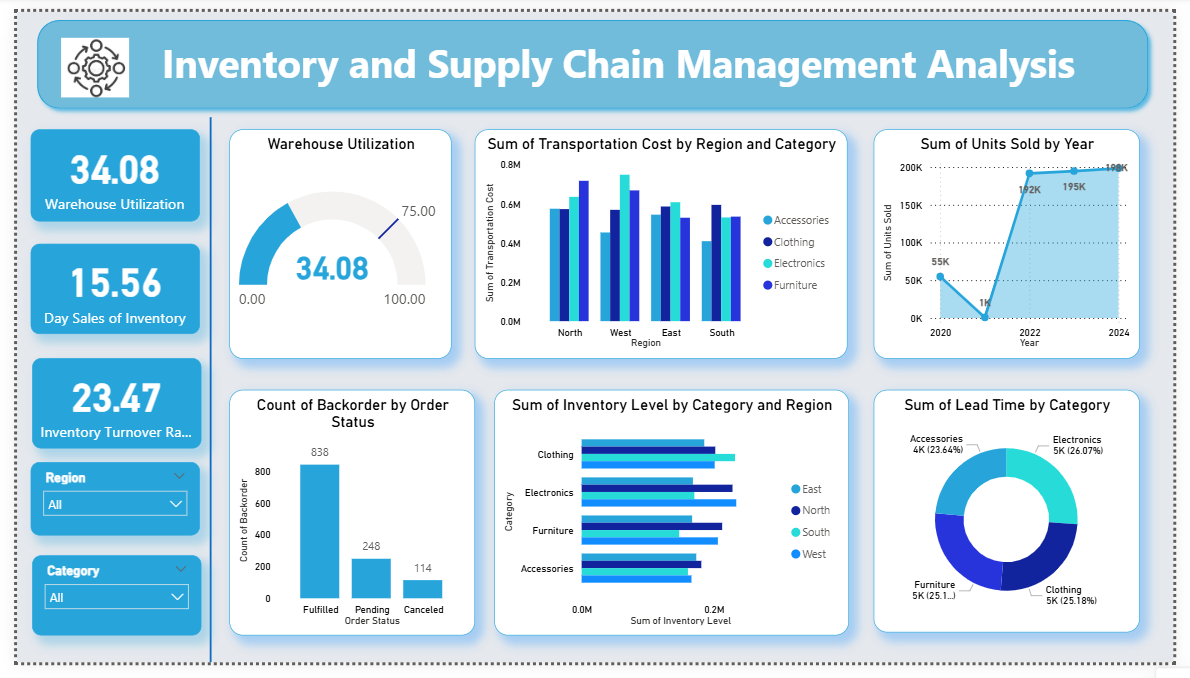

This screenshot's page, from the dashboard's own definition file:
{"tool":"powerbi","page":{"name":"Page 1","canvas":[1280,720],"ordinal":0},"visuals":[{"type":"shape","box":[14,0,1248,116],"z":0},{"type":"textbox","box":[86,22,1158,78],"z":1000},{"type":"image","box":[40,24,92,76],"z":2000},{"type":"card","fields":{"Values":["Inventory and SupplyChain Dataset.Warehouse Utilization"]},"box":[14.8,129.6,187,101.9],"z":3000},{"type":"card","fields":{"Values":["Inventory and SupplyChain Dataset.Day Sales of Inventory"]},"box":[14.8,257.4,187,100],"z":4000},{"type":"card","fields":{"Values":["Inventory and SupplyChain Dataset.Inventory Turnover Ratio"]},"box":[16.7,383.3,187,100],"z":5000},{"type":"shape","box":[188.9,116.7,51.9,603.7],"z":6000},{"type":"slicer","fields":{"Values":["Inventory and SupplyChain Dataset.Region"]},"box":[14.8,498.1,187,81.5],"z":7000},{"type":"slicer","fields":{"Values":["Inventory and SupplyChain Dataset.Category"]},"box":[16.7,601.9,187,88.9],"z":8000},{"type":"gauge","fields":{"Y":["Inventory and SupplyChain Dataset.Warehouse Utilization"]},"box":[235.2,129.6,246.3,253.7],"z":9000},{"type":"clusteredColumnChart","fields":{"Y":["Sum(Inventory and SupplyChain Dataset.Transportation Cost)"],"Category":["Inventory and SupplyChain Dataset.Region"],"Series":["Inventory and SupplyChain Dataset.Category"]},"box":[507.4,129.6,413,253.7],"z":10000},{"type":"lineChart","fields":{"Y":["Sum(Inventory and SupplyChain Dataset.Units Sold)"],"Category":["Inventory and SupplyChain Dataset.Date.Variation.Date Hierarchy.Year"]},"box":[948.1,129.6,294.4,253.7],"z":11000},{"type":"donutChart","fields":{"Y":["Sum(Inventory and SupplyChain Dataset.Lead Time)"],"Category":["Inventory and SupplyChain Dataset.Category"]},"box":[948.1,418.5,294.4,268.5],"z":12000},{"type":"columnChart","fields":{"Y":["CountNonNull(Inventory and SupplyChain Dataset.Backorder)"],"Category":["Inventory and SupplyChain Dataset.Order Status"]},"box":[235.2,418.5,272.2,272.2],"z":13000},{"type":"clusteredBarChart","fields":{"Y":["Sum(Inventory and SupplyChain Dataset.Inventory Level)"],"Category":["Inventory and SupplyChain Dataset.Category"],"Series":["Inventory and SupplyChain Dataset.Region"]},"box":[527.8,418.5,392.6,272.2],"z":14000}]}

Visuals, with their boxes in screenshot pixels (x1, y1, x2, y2), scaled from the page's 1280x720 canvas onto the 1190x678 screenshot:
shape: {"x1": 13, "y1": 0, "x2": 1173, "y2": 109}
textbox: {"x1": 80, "y1": 21, "x2": 1157, "y2": 94}
image: {"x1": 37, "y1": 23, "x2": 123, "y2": 94}
card - Inventory and SupplyChain Dataset.Warehouse Utilization: {"x1": 14, "y1": 122, "x2": 188, "y2": 218}
card - Inventory and SupplyChain Dataset.Day Sales of Inventory: {"x1": 14, "y1": 242, "x2": 188, "y2": 337}
card - Inventory and SupplyChain Dataset.Inventory Turnover Ratio: {"x1": 16, "y1": 361, "x2": 189, "y2": 455}
shape: {"x1": 176, "y1": 110, "x2": 224, "y2": 677}
slicer - Inventory and SupplyChain Dataset.Region: {"x1": 14, "y1": 469, "x2": 188, "y2": 546}
slicer - Inventory and SupplyChain Dataset.Category: {"x1": 16, "y1": 567, "x2": 189, "y2": 651}
gauge - Inventory and SupplyChain Dataset.Warehouse Utilization: {"x1": 219, "y1": 122, "x2": 448, "y2": 361}
clusteredColumnChart - Sum(Inventory and SupplyChain Dataset.Transportation Cost) x Inventory and SupplyChain Dataset.Region: {"x1": 472, "y1": 122, "x2": 856, "y2": 361}
lineChart - Sum(Inventory and SupplyChain Dataset.Units Sold) x Inventory and SupplyChain Dataset.Date.Variation.Date Hierarchy.Year: {"x1": 881, "y1": 122, "x2": 1155, "y2": 361}
donutChart - Sum(Inventory and SupplyChain Dataset.Lead Time) x Inventory and SupplyChain Dataset.Category: {"x1": 881, "y1": 394, "x2": 1155, "y2": 647}
columnChart - CountNonNull(Inventory and SupplyChain Dataset.Backorder) x Inventory and SupplyChain Dataset.Order Status: {"x1": 219, "y1": 394, "x2": 472, "y2": 650}
clusteredBarChart - Sum(Inventory and SupplyChain Dataset.Inventory Level) x Inventory and SupplyChain Dataset.Category: {"x1": 491, "y1": 394, "x2": 856, "y2": 650}
